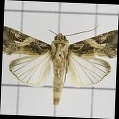Spodoptera litura: (2, 22, 117, 105)
